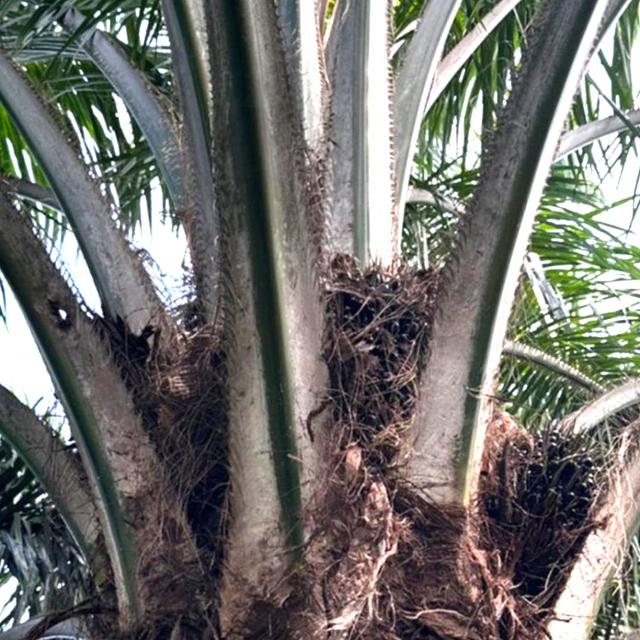unripe: (313, 250, 450, 492), (490, 416, 617, 604)
